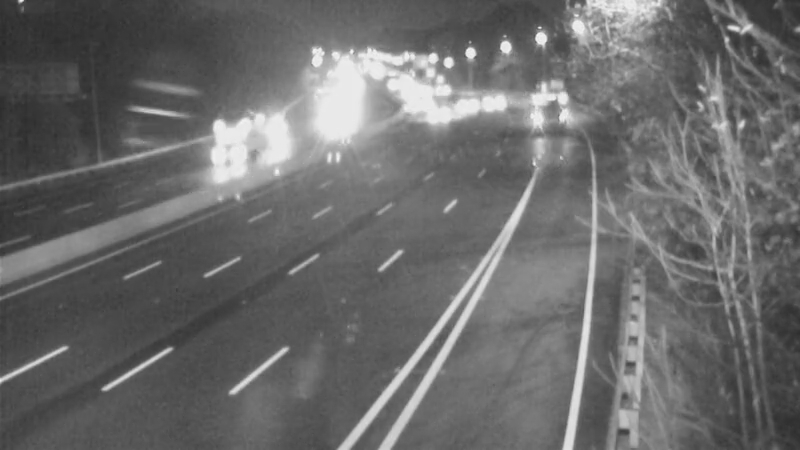vehicle: (175, 116, 255, 196), (465, 75, 515, 125), (390, 78, 440, 128), (448, 77, 498, 127), (414, 88, 464, 138), (533, 82, 583, 132), (252, 105, 302, 155)
